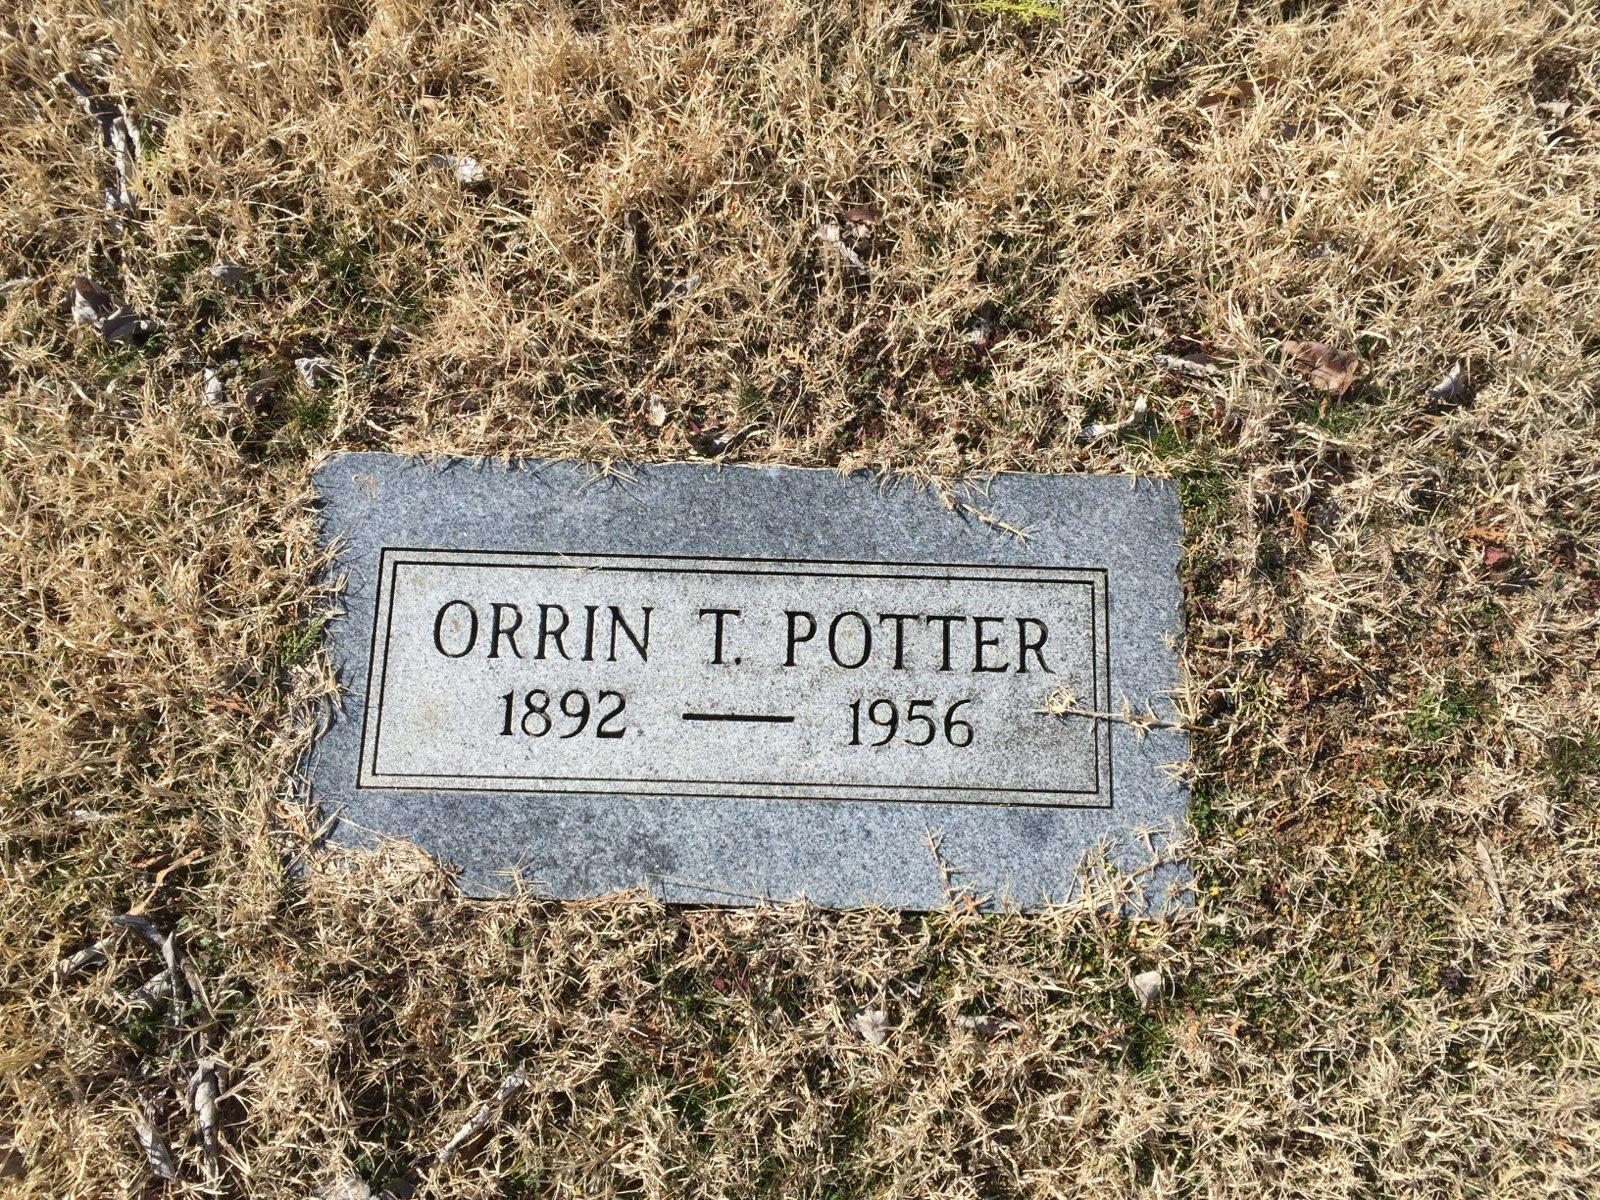flat: (256, 401, 1279, 943)
